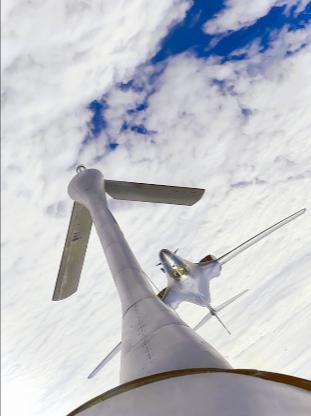AV8B: (87, 209, 306, 380)
